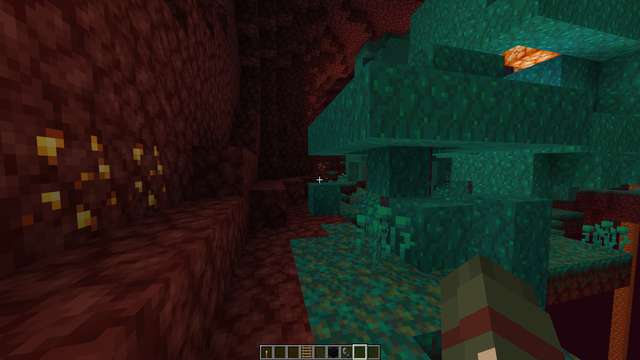nethergold: (24, 114, 169, 250)
quartz: (315, 159, 329, 173)
